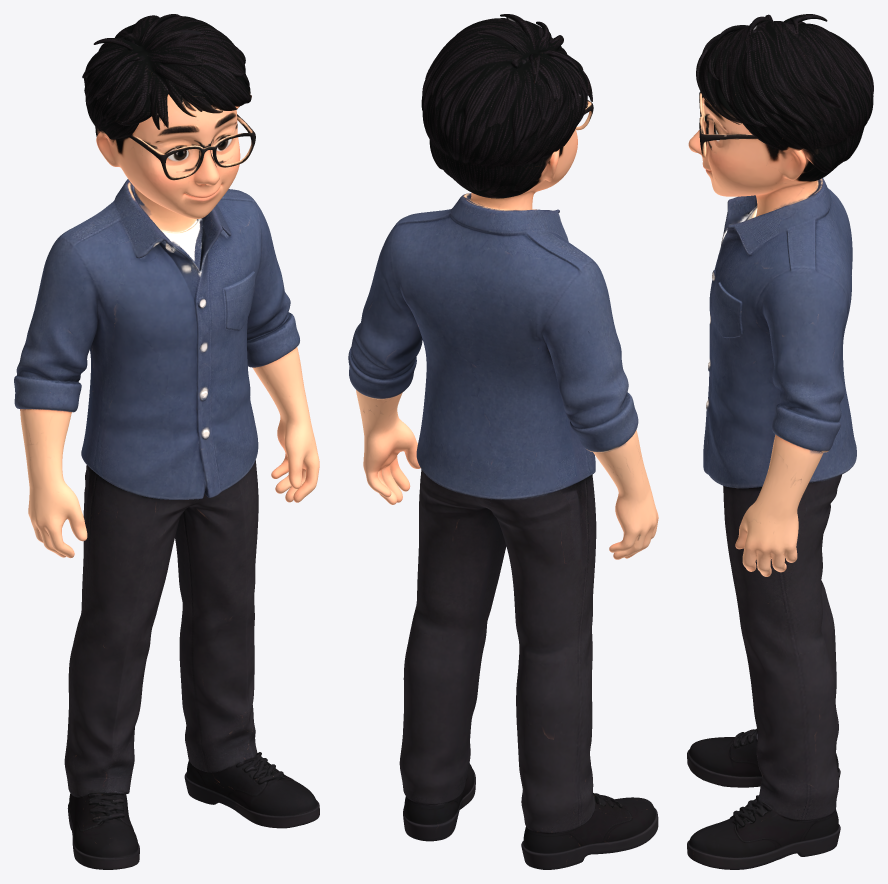
File: 6-3-담임선생님.glb
3 renders of one model, left to right at view 1: azimuth 30°, elevation 25°; view 2: azimuth 150°, elevation 25°; view 3: azimuth 270°, elevation 25°, orthographic.
Size of the model in its own units: 0.6995 by 1.9 by 0.4043.
Materials: 1 (1 with a texture image).
